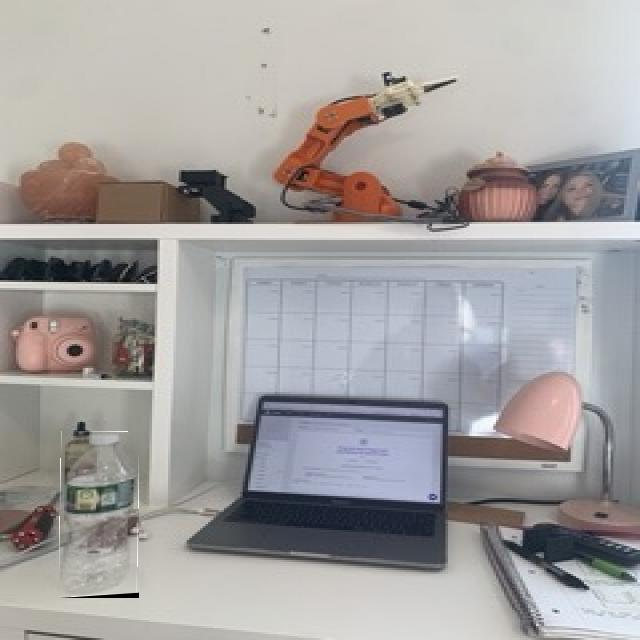water_bottle: (59, 432, 139, 598)
